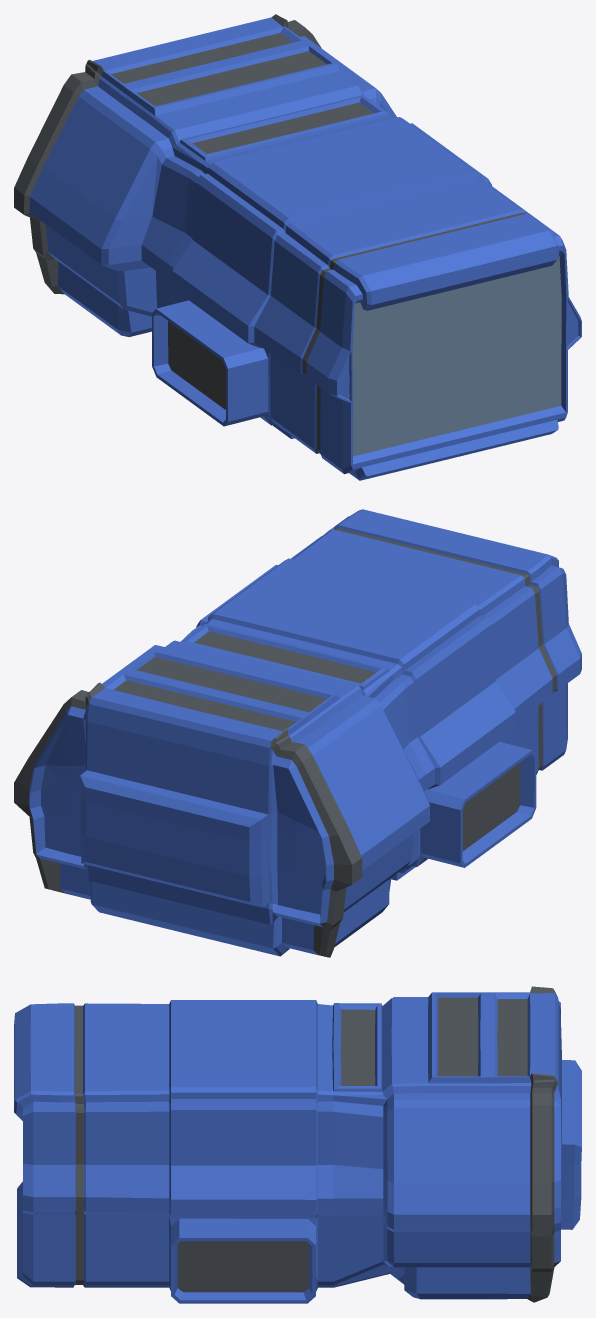
The model's file is Fighter_10_Frontal_Body_Blue.fbx.
3 views of the same model, one above another, from view 1: azimuth 30°, elevation 25°; view 2: azimuth 150°, elevation 25°; view 3: azimuth 270°, elevation 25° (orthographic). The views are drawn at different scales.
Visible parts, largest first — view 1: Fighter_10_Frontal_Body_Blue; view 2: Fighter_10_Frontal_Body_Blue; view 3: Fighter_10_Frontal_Body_Blue.
Part boxes in pixels (bbox=[...]): Fighter_10_Frontal_Body_Blue: bbox=[14, 14, 581, 480]; Fighter_10_Frontal_Body_Blue: bbox=[14, 509, 581, 957]; Fighter_10_Frontal_Body_Blue: bbox=[14, 986, 581, 1303].
Size of the model in its own units: 971 by 660 by 1478.
Materials: 3 (3 with a texture image).
